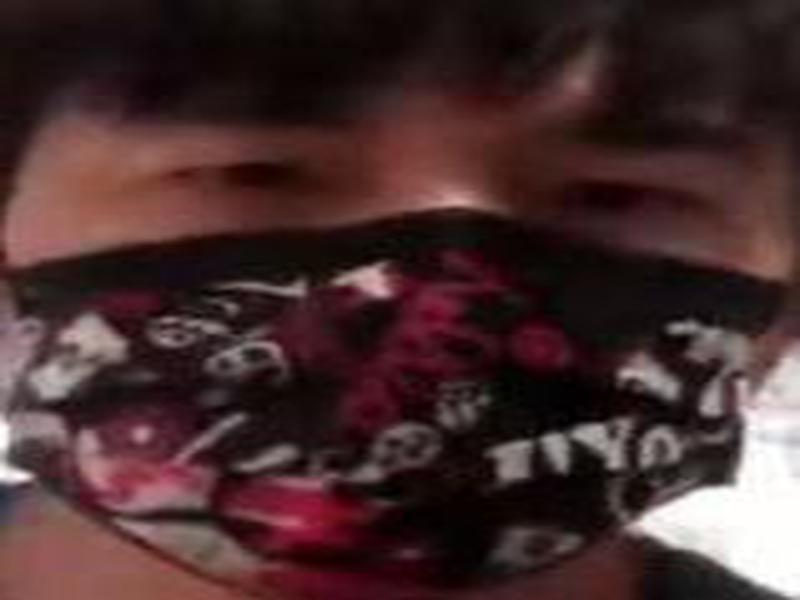with_mask: (1, 1, 800, 596)
